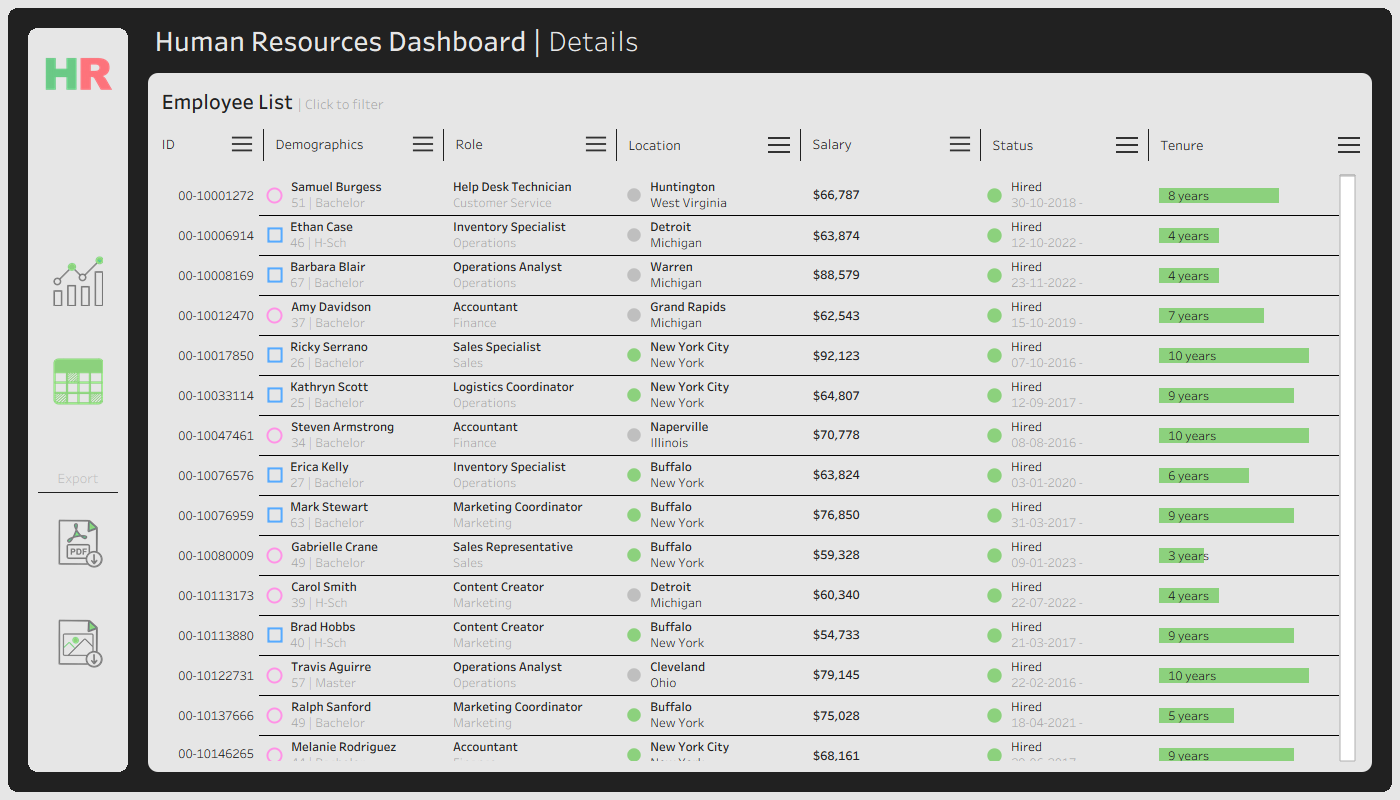

This screenshot's page, from the dashboard's own definition file:
{"tool":"tableau","page":{"name":"Details Dashboard","canvas":[1400,800],"ordinal":0},"visuals":[{"type":"text","box":[148,8,1224,65]},{"type":"image","param":"Image/Logo.png","box":[28,28,100,92]},{"type":"text","box":[155,80,1210,49]},{"type":"blank","box":[28,120,100,111]},{"type":"text","box":[155,129,71,30]},{"type":"dashboard-object","box":[226,129,32,30]},{"type":"blank","box":[258,129,11,32]},{"type":"text","box":[269,129,139,30]},{"type":"dashboard-object","box":[408,129,30,30]},{"type":"blank","box":[438,129,11,32]},{"type":"text","box":[449,129,132,30]},{"type":"dashboard-object","box":[581,129,30,30]},{"type":"blank","box":[611,129,11,32]},{"type":"text","box":[622,129,141,32]},{"type":"dashboard-object","box":[762.9,129,32,32]},{"type":"blank","box":[794.9,129,11,32]},{"type":"text","box":[805.9,129,139,30]},{"type":"dashboard-object","box":[944.9,129,30,30]},{"type":"blank","box":[974.9,129,11,32]},{"type":"text","box":[985.9,129,125,32]},{"type":"dashboard-object","box":[1110.9,129,32,32]},{"type":"blank","box":[1142.9,129,11,32]},{"type":"text","box":[1153.9,129,179.1,32]},{"type":"dashboard-object","box":[1333,129,32,32]},{"type":"filter","title":"Detailed","param":"[federated.0yob5cm1xo00br10v5j7d03hux97].[none:Employee_ID:nk]","box":[155,159,103,31]},{"type":"text","box":[269,159,169,29]},{"type":"text","box":[449,159,162,29]},{"type":"filter","title":"Detailed","param":"[federated.0yob5cm1xo00br10v5j7d03hux97].[sum:Salary:qk]","box":[806,159,169,51]},{"type":"text","box":[622,161,173,29]},{"type":"text","box":[986,161,157,29]},{"type":"filter","title":"Detailed","param":"[federated.0yob5cm1xo00br10v5j7d03hux97].[sum:Age (copy)_1034983924961281:qk]","box":[1153.9,161,211.1,51]},{"type":"worksheet","title":"Detailed","mark":"Shape","rows":["Employee_ID"],"cols":["Calculation_1034983929458696","Calculation_1034983929458696","Calculation_1034983929458696","Calculation_1034983929458696","Calculation_1034983929458696","Age (copy)_1034983924961281"],"box":[155,171,1210,594]},{"type":"filter","title":"Detailed","param":"[federated.0yob5cm1xo00br10v5j7d03hux97].[none:Gender:nk]","box":[269,188,169,29]},{"type":"filter","title":"Detailed","param":"[federated.0yob5cm1xo00br10v5j7d03hux97].[none:Department:nk]","box":[449,188,162,29]},{"type":"filter","title":"Detailed","param":"[federated.0yob5cm1xo00br10v5j7d03hux97].[none:Calculation_0565766967013379:nk]","box":[622,190,173,29]},{"type":"filter","title":"Detailed","param":"[federated.0yob5cm1xo00br10v5j7d03hux97].[none:Calculation_0983581678112768:nk]","box":[986,190,157,29]},{"type":"text","box":[269,217,169,29]},{"type":"text","box":[449,217,162,29]},{"type":"text","box":[622,219,173,29]},{"type":"text","box":[986,219,157,29]},{"type":"dashboard-object","box":[28,231,100,100]},{"type":"filter","title":"Detailed","param":"[federated.0yob5cm1xo00br10v5j7d03hux97].[none:Education Level:nk]","box":[269,246,169,29]},{"type":"filter","title":"Detailed","param":"[federated.0yob5cm1xo00br10v5j7d03hux97].[none:Job Title:nk]","box":[449,246,162,29]},{"type":"filter","title":"Detailed","param":"[federated.0yob5cm1xo00br10v5j7d03hux97].[none:State:nk]","box":[622,248,173,29]},{"type":"filter","title":"Detailed","param":"[federated.0yob5cm1xo00br10v5j7d03hux97].[yr:Hiredate:ok]","box":[986,248,157,29]},{"type":"text","box":[269,275,169,29]},{"type":"text","box":[622,277,173,29]},{"type":"text","box":[986,277,157,29]},{"type":"filter","title":"Detailed","param":"[federated.0yob5cm1xo00br10v5j7d03hux97].[none:Calculation_0565766976552970:nk]","box":[269,304,169,29]},{"type":"filter","title":"Detailed","param":"[federated.0yob5cm1xo00br10v5j7d03hux97].[none:City:nk]","box":[622,306,173,29]},{"type":"filter","title":"Detailed","param":"[federated.0yob5cm1xo00br10v5j7d03hux97].[yr:Termdate:ok]","box":[986,306,157,29]},{"type":"dashboard-object","box":[28,331,100,100]},{"type":"blank","box":[28,431,100,29]},{"type":"text","box":[28,460,100,32]},{"type":"blank","box":[28,492,100,1]},{"type":"dashboard-object","box":[28,493,100,100]},{"type":"dashboard-object","box":[28,593,100,100]}]}

Visuals, with their boxes on the page's 1400x800 design canvas (x1, y1, x2, y2). These are canvas units, not pixel positions in the 1400x800 screenshot, which may show the page scaled, cropped or inside an application window:
text: bbox(148, 8, 1372, 73)
image: bbox(28, 28, 128, 120)
text: bbox(155, 80, 1365, 129)
blank: bbox(28, 120, 128, 231)
text: bbox(155, 129, 226, 159)
dashboard-object: bbox(226, 129, 258, 159)
blank: bbox(258, 129, 269, 161)
text: bbox(269, 129, 408, 159)
dashboard-object: bbox(408, 129, 438, 159)
blank: bbox(438, 129, 449, 161)
text: bbox(449, 129, 581, 159)
dashboard-object: bbox(581, 129, 611, 159)
blank: bbox(611, 129, 622, 161)
text: bbox(622, 129, 763, 161)
dashboard-object: bbox(763, 129, 795, 161)
blank: bbox(795, 129, 806, 161)
text: bbox(806, 129, 945, 159)
dashboard-object: bbox(945, 129, 975, 159)
blank: bbox(975, 129, 986, 161)
text: bbox(986, 129, 1111, 161)
dashboard-object: bbox(1111, 129, 1143, 161)
blank: bbox(1143, 129, 1154, 161)
text: bbox(1154, 129, 1333, 161)
dashboard-object: bbox(1333, 129, 1365, 161)
"Detailed" filter: bbox(155, 159, 258, 190)
text: bbox(269, 159, 438, 188)
text: bbox(449, 159, 611, 188)
"Detailed" filter: bbox(806, 159, 975, 210)
text: bbox(622, 161, 795, 190)
text: bbox(986, 161, 1143, 190)
"Detailed" filter: bbox(1154, 161, 1365, 212)
"Detailed" worksheet (Shape marks): bbox(155, 171, 1365, 765)
"Detailed" filter: bbox(269, 188, 438, 217)
"Detailed" filter: bbox(449, 188, 611, 217)
"Detailed" filter: bbox(622, 190, 795, 219)
"Detailed" filter: bbox(986, 190, 1143, 219)
text: bbox(269, 217, 438, 246)
text: bbox(449, 217, 611, 246)
text: bbox(622, 219, 795, 248)
text: bbox(986, 219, 1143, 248)
dashboard-object: bbox(28, 231, 128, 331)
"Detailed" filter: bbox(269, 246, 438, 275)
"Detailed" filter: bbox(449, 246, 611, 275)
"Detailed" filter: bbox(622, 248, 795, 277)
"Detailed" filter: bbox(986, 248, 1143, 277)
text: bbox(269, 275, 438, 304)
text: bbox(622, 277, 795, 306)
text: bbox(986, 277, 1143, 306)
"Detailed" filter: bbox(269, 304, 438, 333)
"Detailed" filter: bbox(622, 306, 795, 335)
"Detailed" filter: bbox(986, 306, 1143, 335)
dashboard-object: bbox(28, 331, 128, 431)
blank: bbox(28, 431, 128, 460)
text: bbox(28, 460, 128, 492)
blank: bbox(28, 492, 128, 493)
dashboard-object: bbox(28, 493, 128, 593)
dashboard-object: bbox(28, 593, 128, 693)
